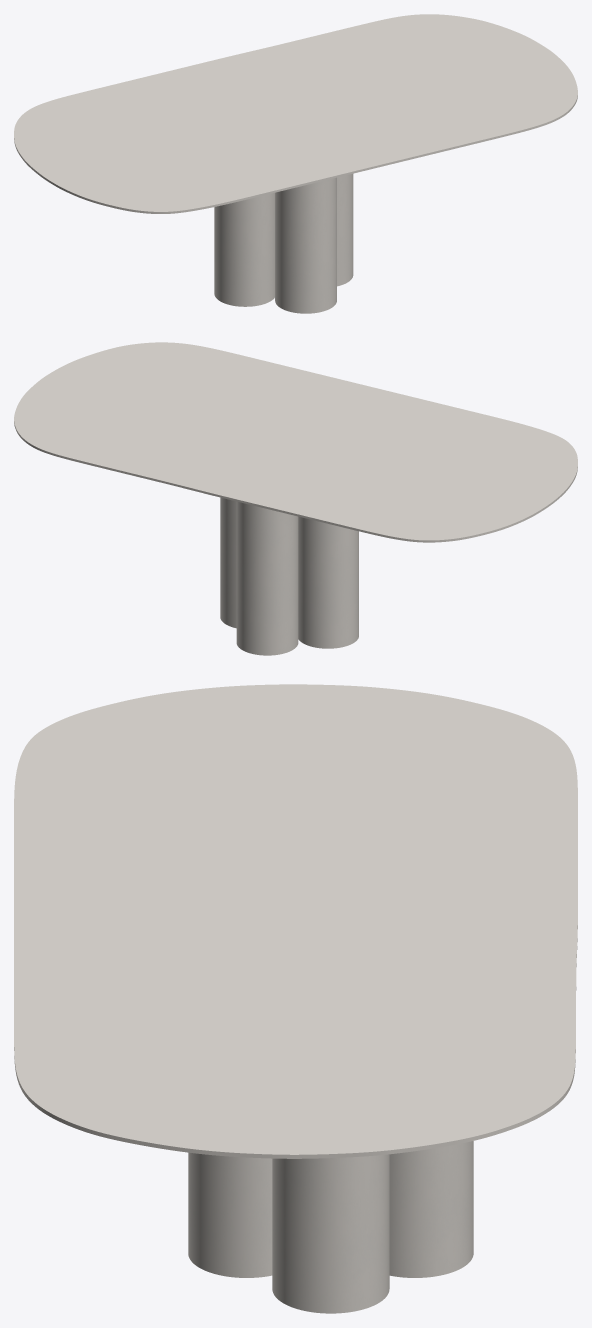
File: purewhite_oval_facet_secondtable.glb
The picture shows the model from 3 angles, top to bottom: view 1: azimuth 30°, elevation 25°; view 2: azimuth 150°, elevation 25°; view 3: azimuth 270°, elevation 25°; orthographic projection. The views are drawn at different scales.
Visible parts, largest first — view 1: facet_oval, secondtable; view 2: facet_oval, secondtable; view 3: facet_oval, secondtable.
Boxes of the visible parts, box(x1,y1,x2,y2) form: facet_oval: box(14, 14, 577, 213); secondtable: box(214, 174, 353, 313); facet_oval: box(14, 342, 577, 542); secondtable: box(220, 497, 358, 655); facet_oval: box(14, 684, 577, 1158); secondtable: box(188, 1141, 473, 1313).
Size of the model in its own units: 7.5 by 2.5 by 3.8.
1 material, 1 textured.
